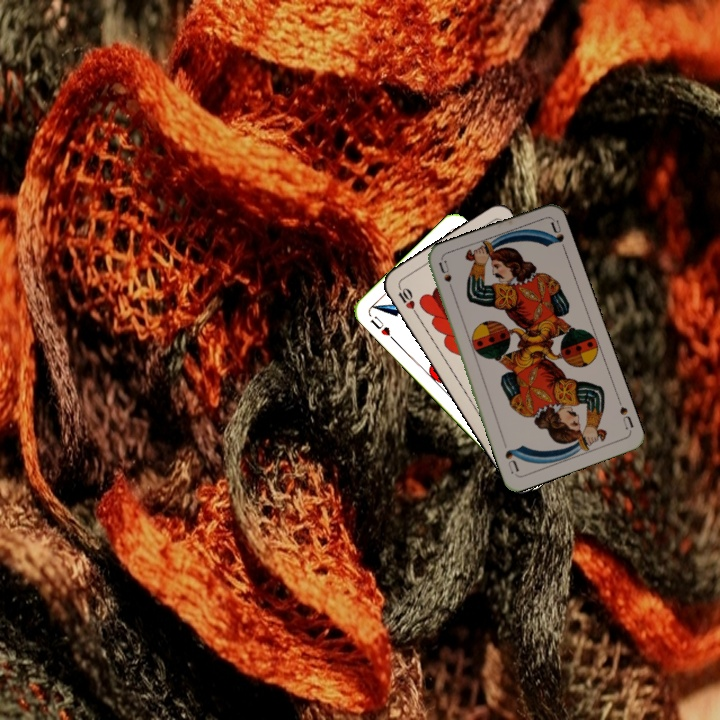H10: (394, 282, 421, 319)
HU: (366, 312, 393, 338)
SU: (434, 257, 457, 297), (615, 402, 636, 434)
